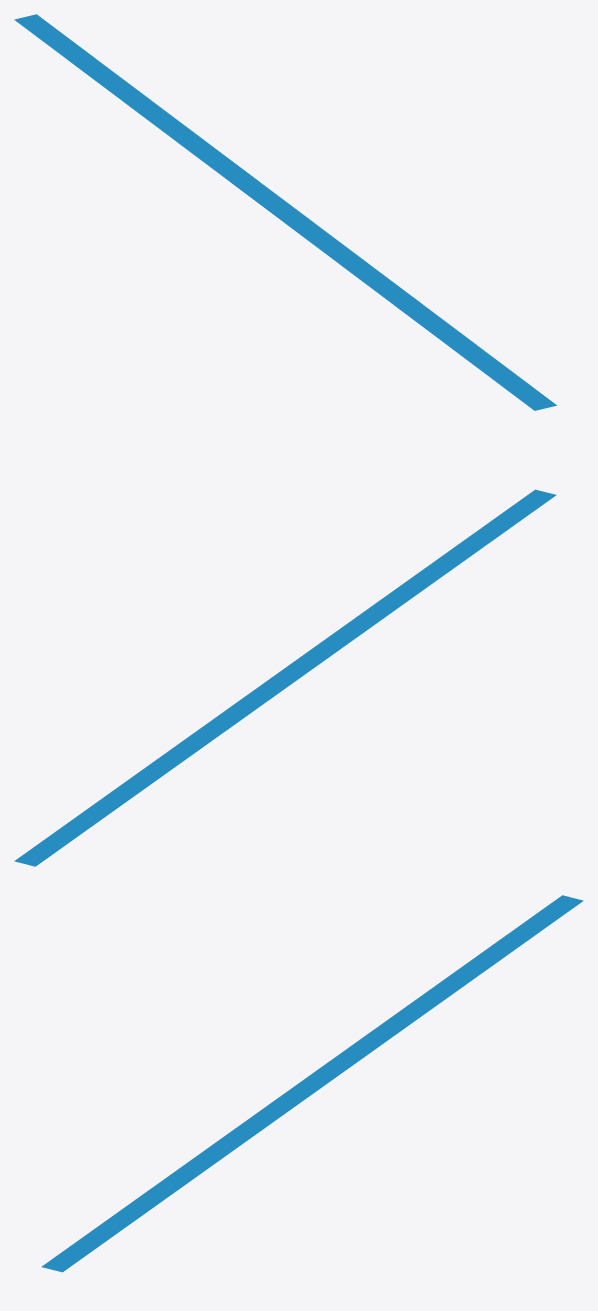
File: guide.glb
The picture shows the model from 3 angles, top to bottom: view 1: azimuth 30°, elevation 25°; view 2: azimuth 150°, elevation 25°; view 3: azimuth 330°, elevation 25°; orthographic projection. The views are drawn at different scales.
Visible parts, largest first — view 1: static; view 2: static; view 3: static.
Part boxes in pixels (left/top/right/bottom): static: left=14, top=14, right=556, bottom=410; static: left=14, top=489, right=556, bottom=866; static: left=41, top=895, right=583, bottom=1272.
Size of the model in its own units: 0.9999 by 0 by 14.
